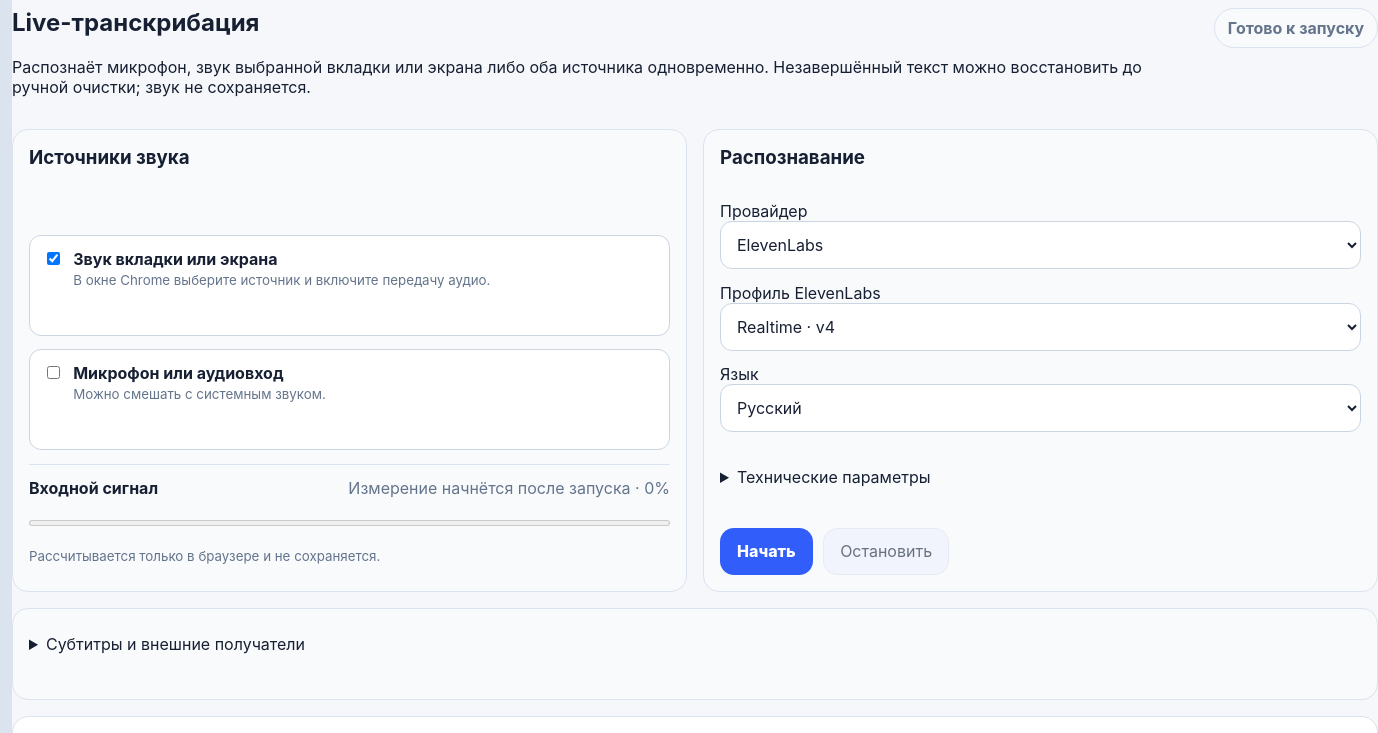
Test: LiveTranscriptionPanel › requests a project-scoped one-use capability without rendering it
expect the button "Начать" is enabled: met, box [720,528,813,575]
Select "Английский" in the dropdown labelled "Язык" at [1040, 408], box [720,384,1361,432]
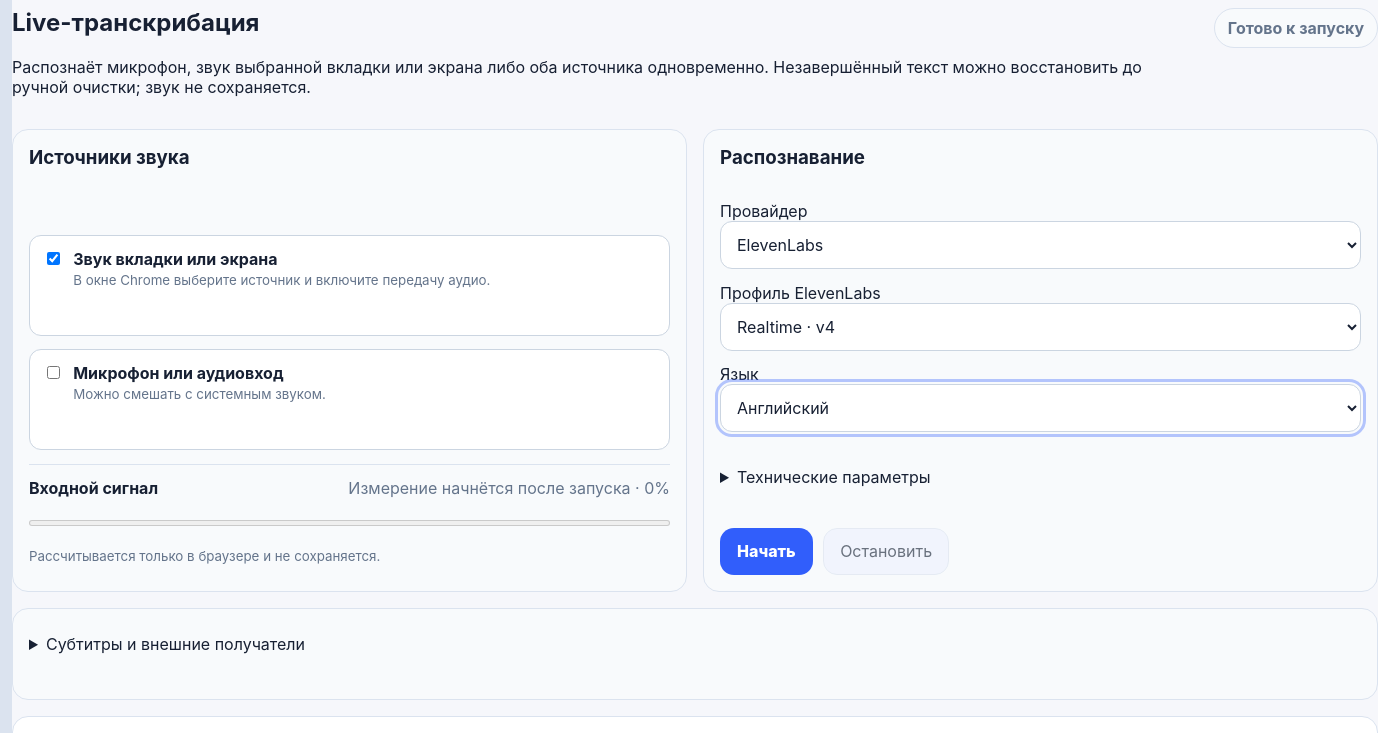
Click the button "Начать".
click(766, 551)  # box [720,528,813,575]
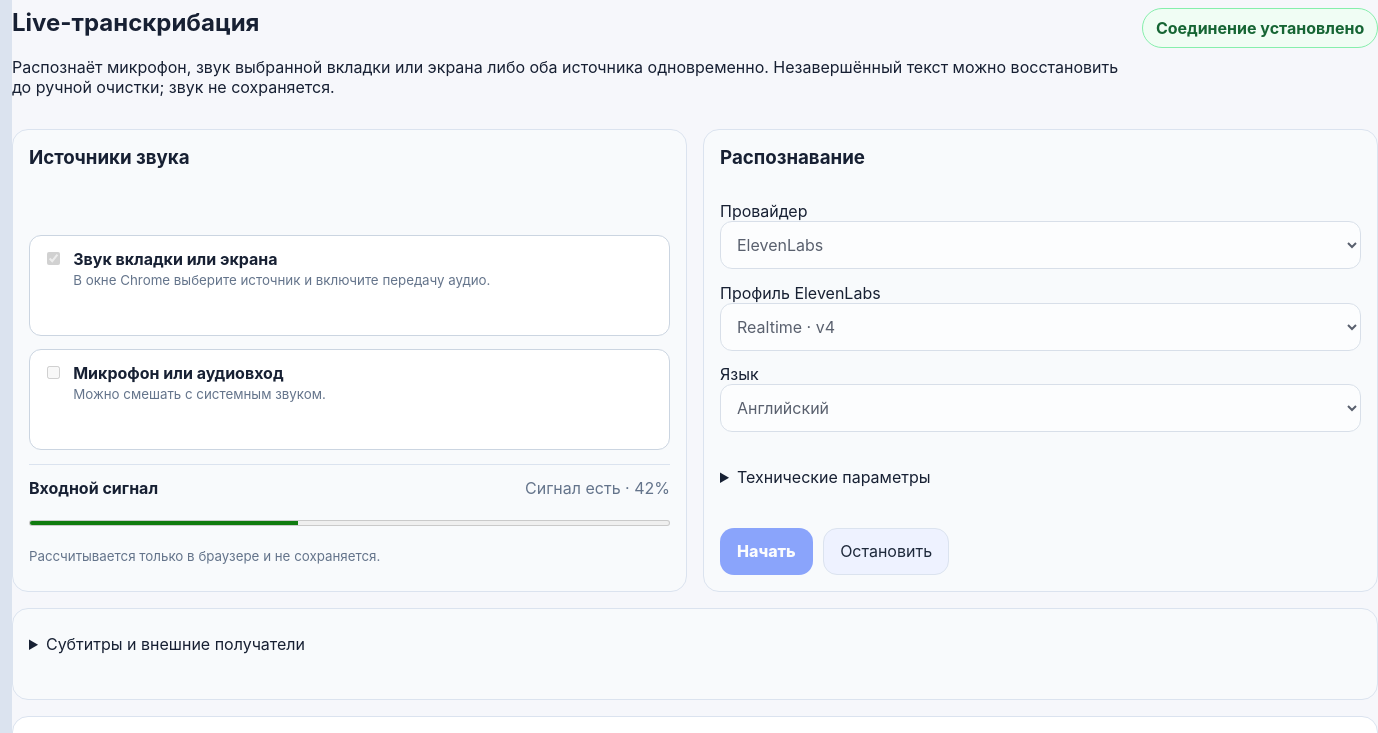
expect the text "Соединение установлено" is shown: met, box [1142,8,1377,48]
expect the text "Сигнал есть · 42%" is shown: met, box [525,478,670,498]
Click the button "Остановить".
click(886, 551)  # box [823,528,949,575]
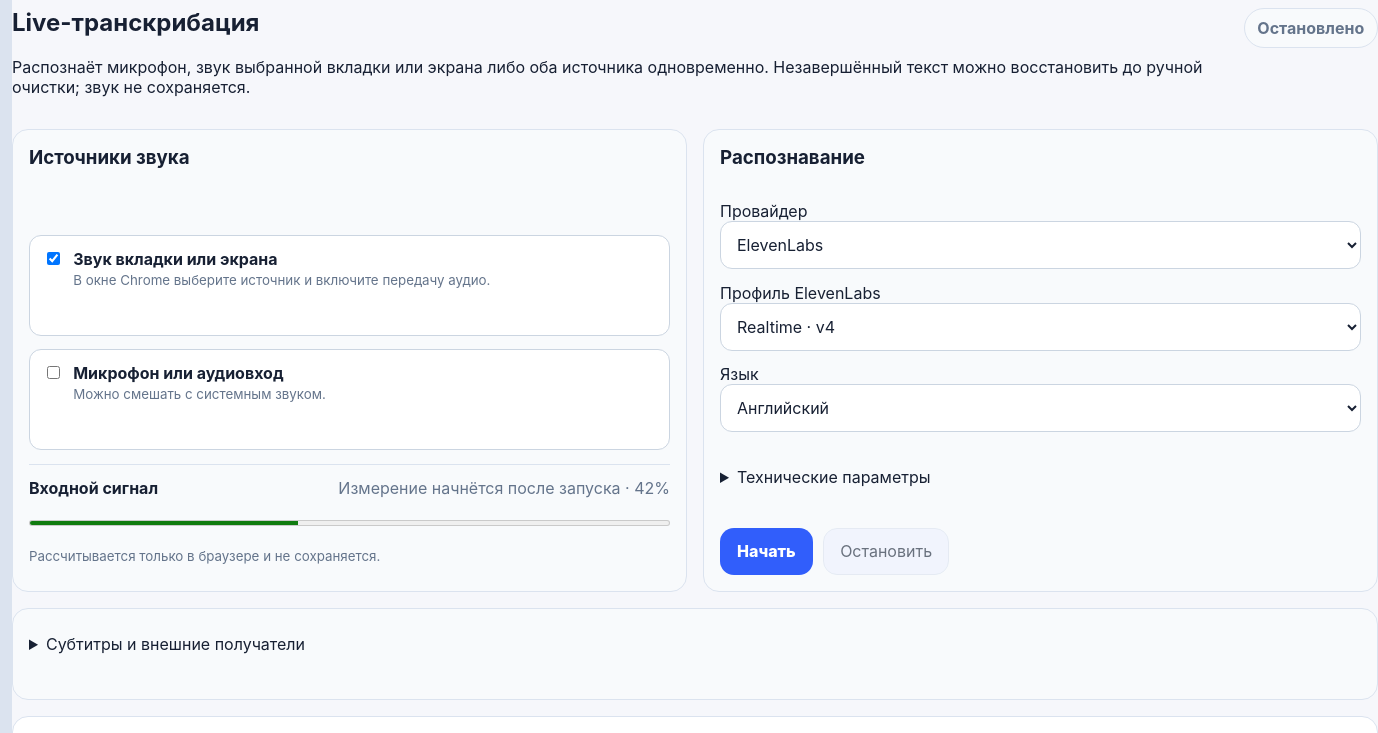
expect the text "Остановлено" is shown: met, box [1244,8,1377,48]
